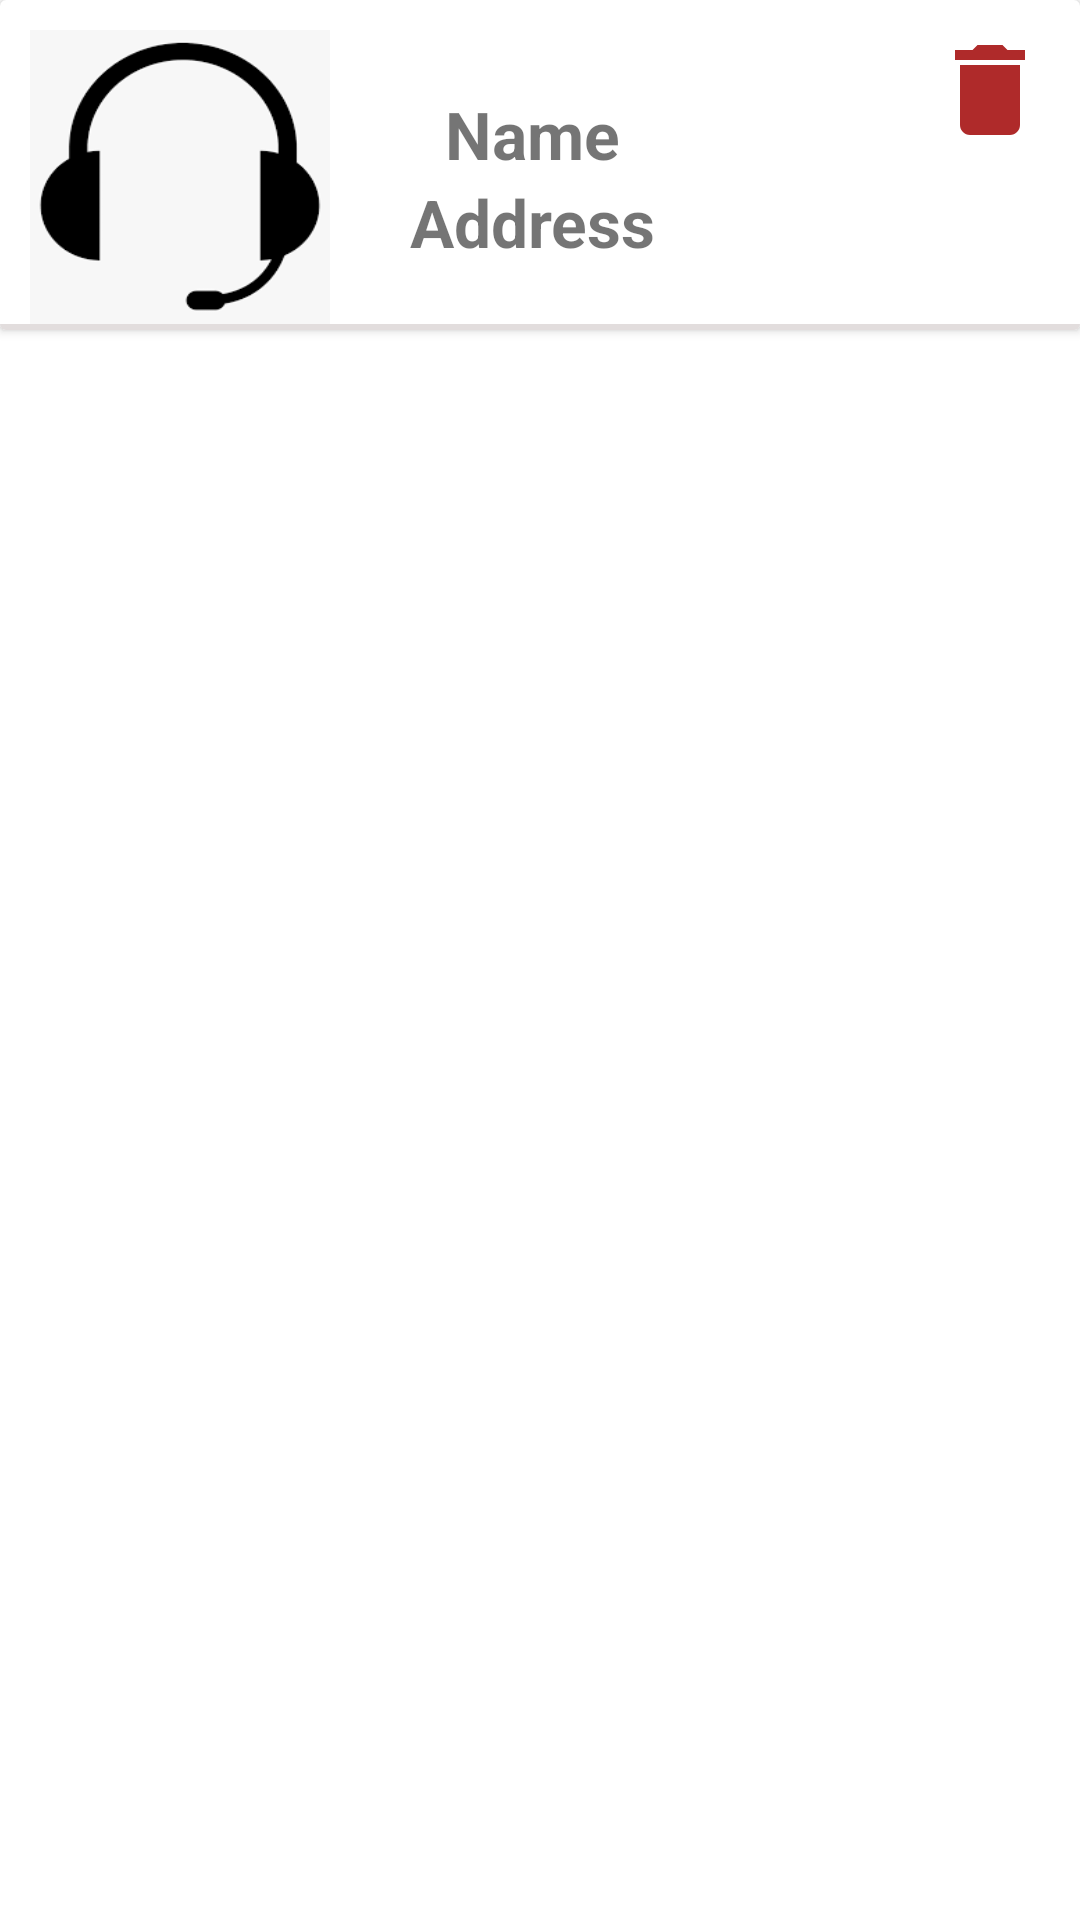

Point at icon controls on the screen. Image size 1080*1920, points as [x,y].
delete: [990,90]
earphone: [180,176]
